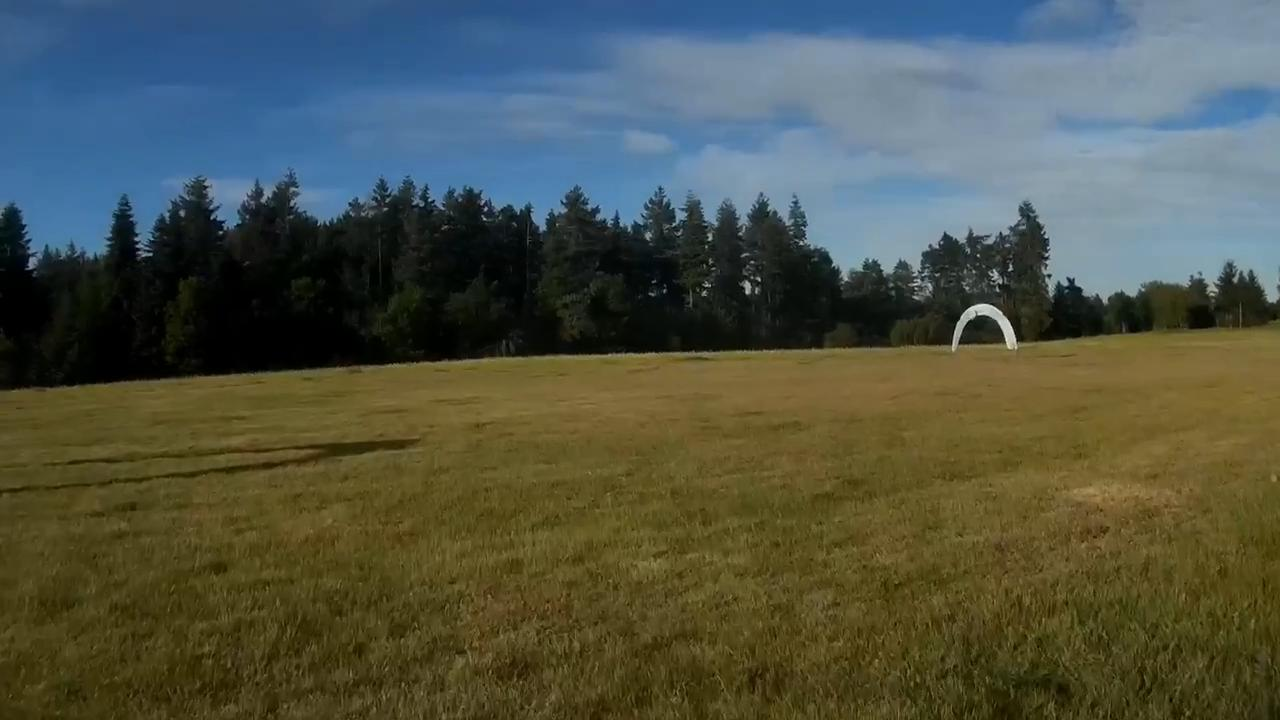gate: (950, 303, 1015, 353)
